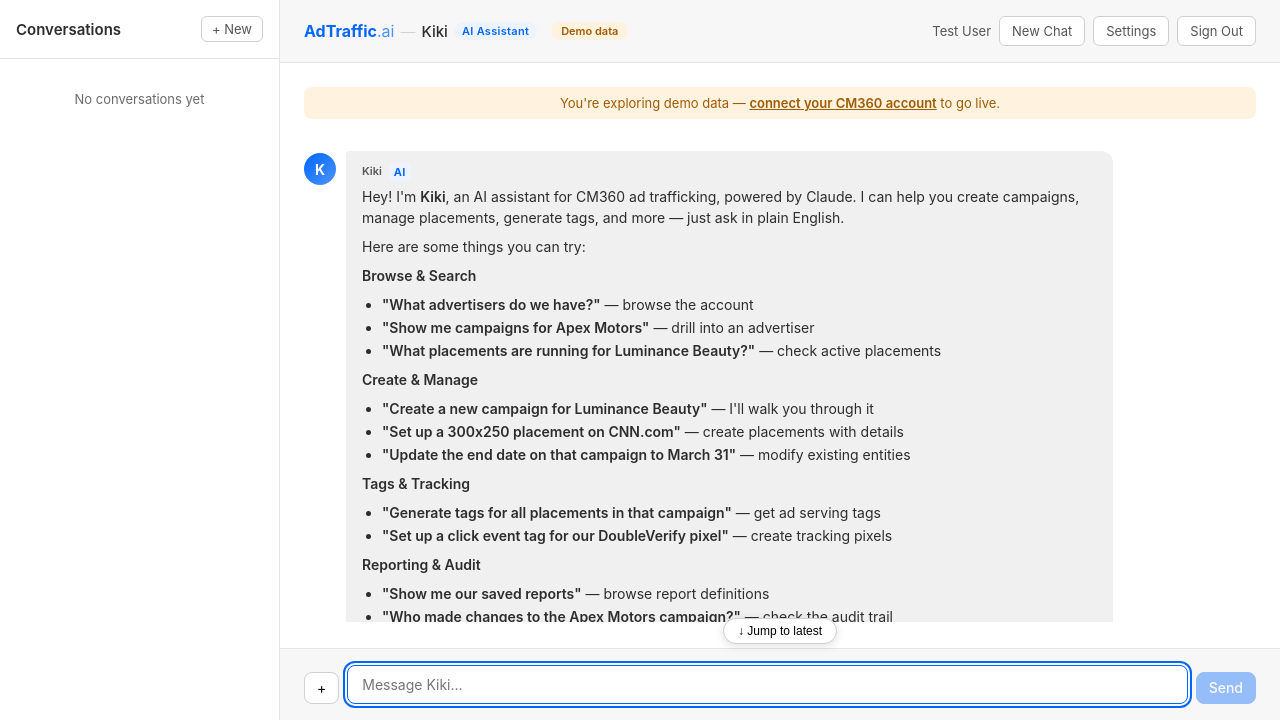
Test case: Chat SSE streaming › handles SSE events split across chunks
In the text box with placeholder "Message Kiki...": (768,684) [347,665,1188,704], type "Hello"
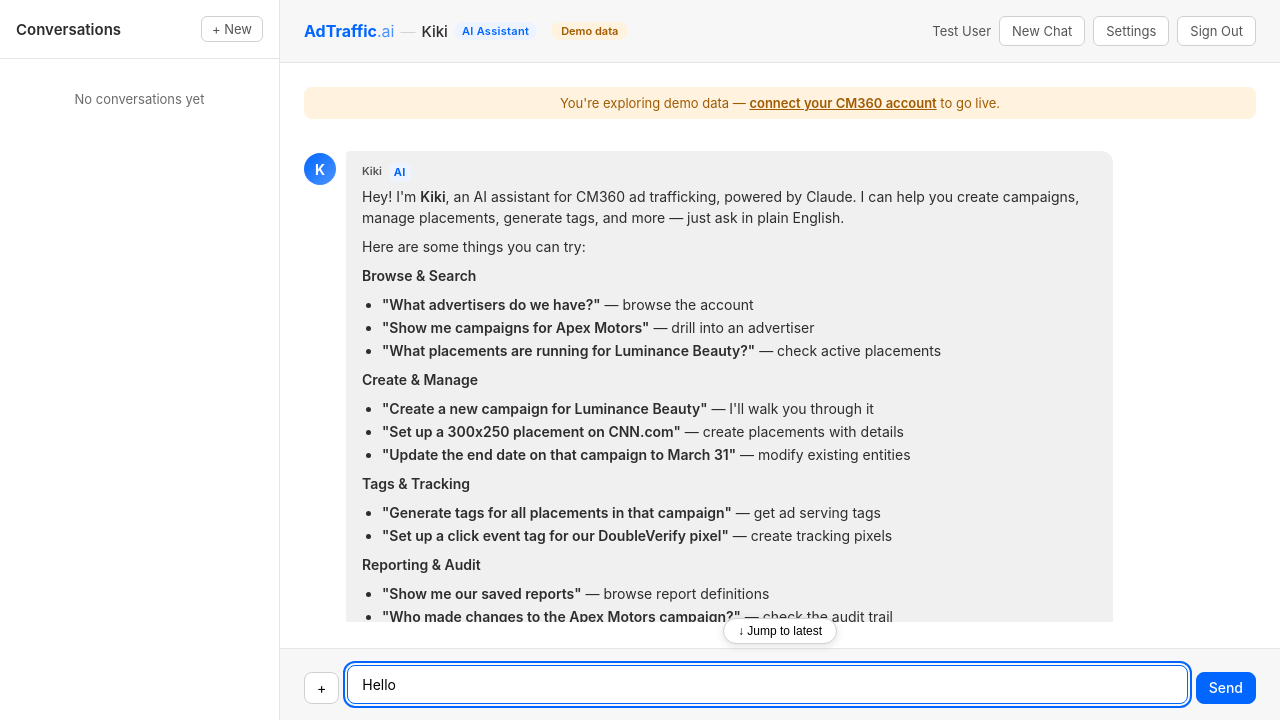
Click the button "Send": (1226,688) [1196,672,1256,704]
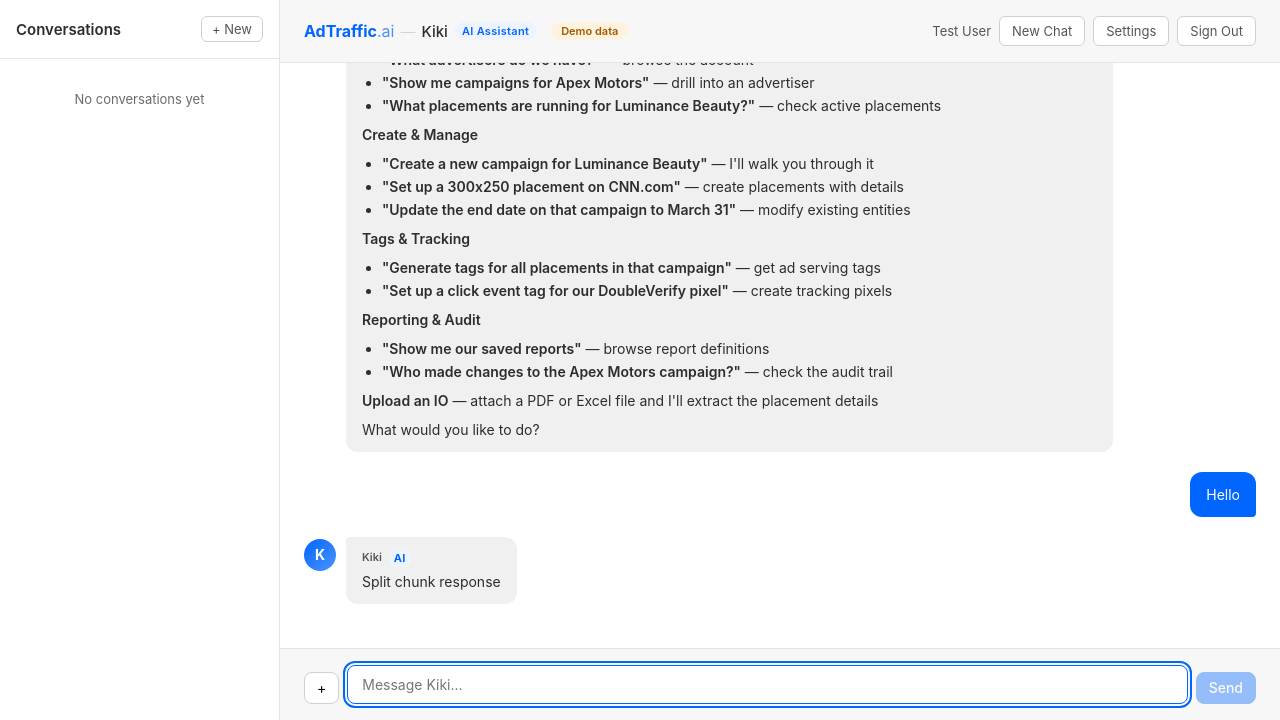
expect the text "Split chunk response" is shown: met, box [362,571,501,592]
